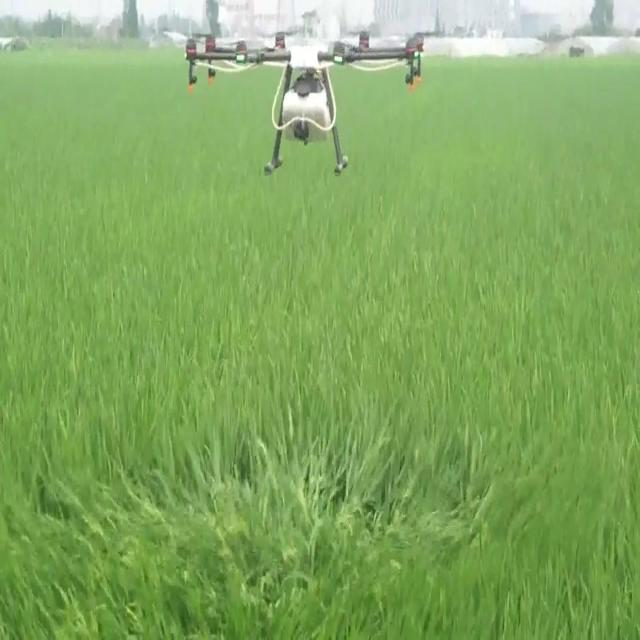drone: (183, 22, 425, 175)
